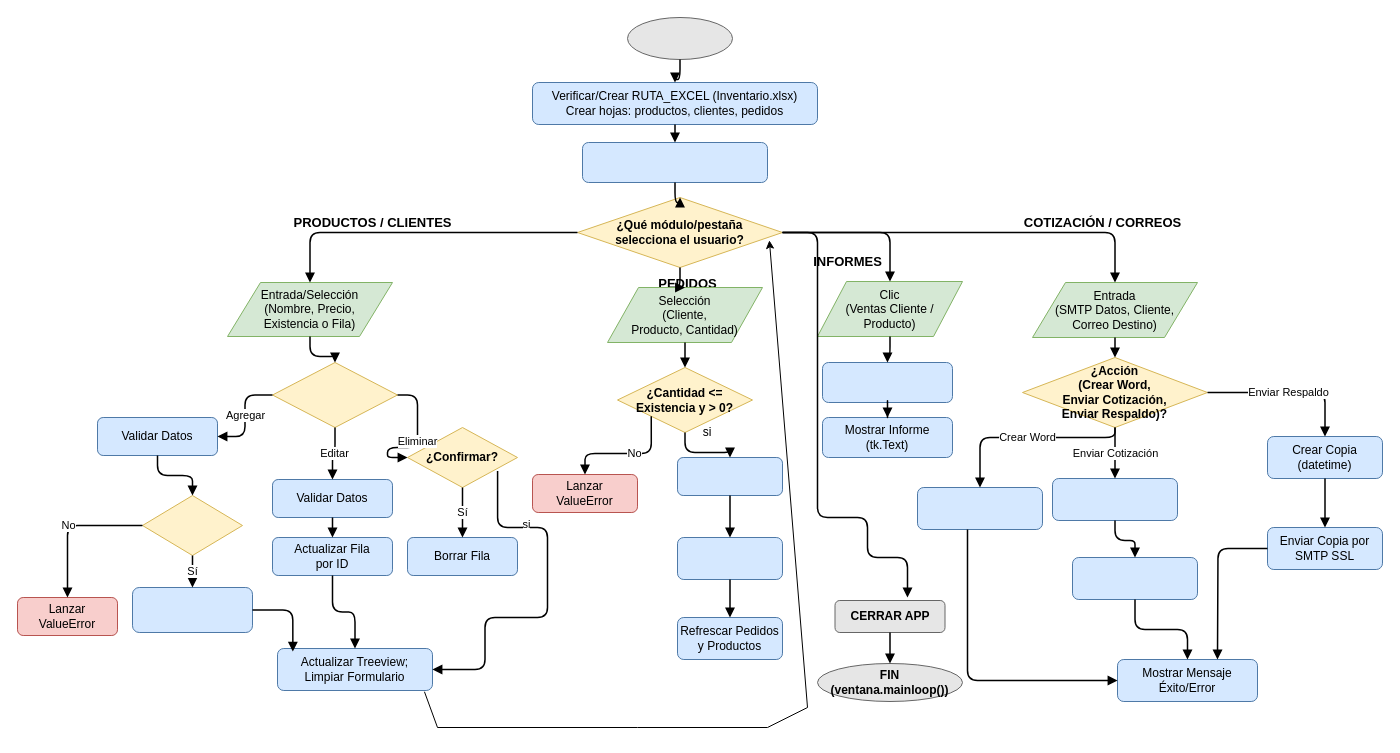
Image size: 1400x753. Some labels were removed from this diagram. The shapes that lost their labels are listed below. From the top down, each one's centre as x and y in pixels, then its label:
At pixel 679 38: "INICIO (main.py)".
At pixel 675 162: "Inicializar Ventana Tkinter (Notebook)".
At pixel 335 395: "¿Acción (Agregar, Editar, Eliminar)?".
At pixel 887 382: "Consolidar Ventas (defaultdict)".
At pixel 729 476: "Descontar Existencia".
At pixel 979 508: "Generar cotización.docx".
At pixel 1115 499: "Crear cotización.docx".
At pixel 192 525: "¿Datos Válidos?".
At pixel 729 558: "Calcular Total; Guardar Pedido".
At pixel 1135 578: "Enviar por SMTP SSL (Puerto 465)".
At pixel 192 609: "Generar ID; Guardar en Excel".
